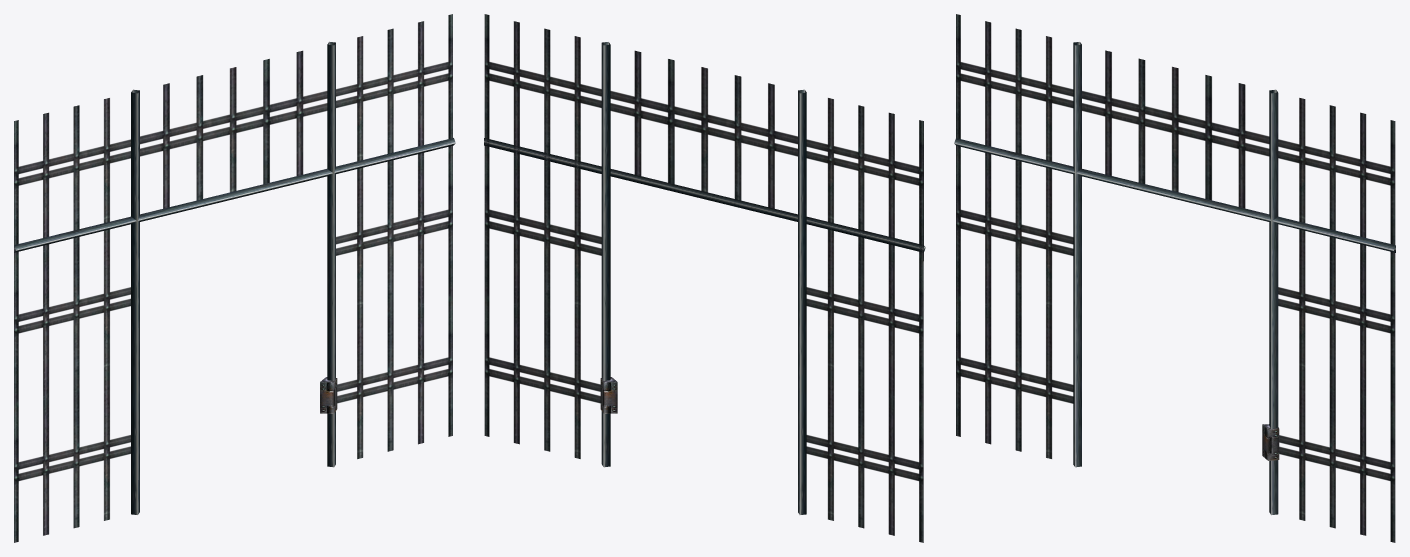
3 renders of one model, left to right at view 1: azimuth 30°, elevation 25°; view 2: azimuth 150°, elevation 25°; view 3: azimuth 330°, elevation 25°, orthographic.
Visible parts, largest first — view 1: d_grid1; view 2: d_grid1; view 3: d_grid1.
Boxes of the visible parts, x1,y1,x2,y2 form: d_grid1: (14,14,455,542); d_grid1: (484,14,925,542); d_grid1: (954,14,1395,542).
Size of the model in its own units: 3.6 by 3.3 by 0.1097.
Materials: 3 (3 with a texture image).
